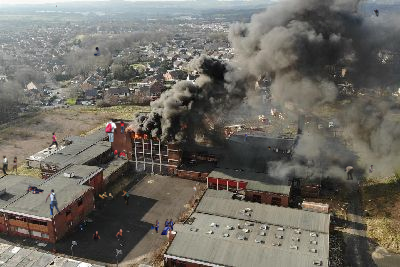Human: (92, 229, 125, 245), (99, 190, 130, 206), (142, 219, 173, 235), (105, 119, 126, 142), (110, 149, 136, 167), (45, 189, 62, 215), (2, 155, 19, 175), (344, 166, 359, 180), (48, 132, 59, 150), (26, 185, 44, 194), (237, 133, 248, 142), (94, 47, 101, 57), (369, 165, 375, 173), (374, 9, 379, 17), (298, 202, 304, 207), (192, 186, 196, 191), (64, 208, 73, 210), (267, 146, 271, 150), (136, 179, 139, 183), (327, 25, 330, 27), (308, 131, 309, 136), (34, 248, 36, 250), (343, 71, 344, 74), (56, 5, 57, 8), (1, 263, 2, 266), (14, 163, 15, 164)
